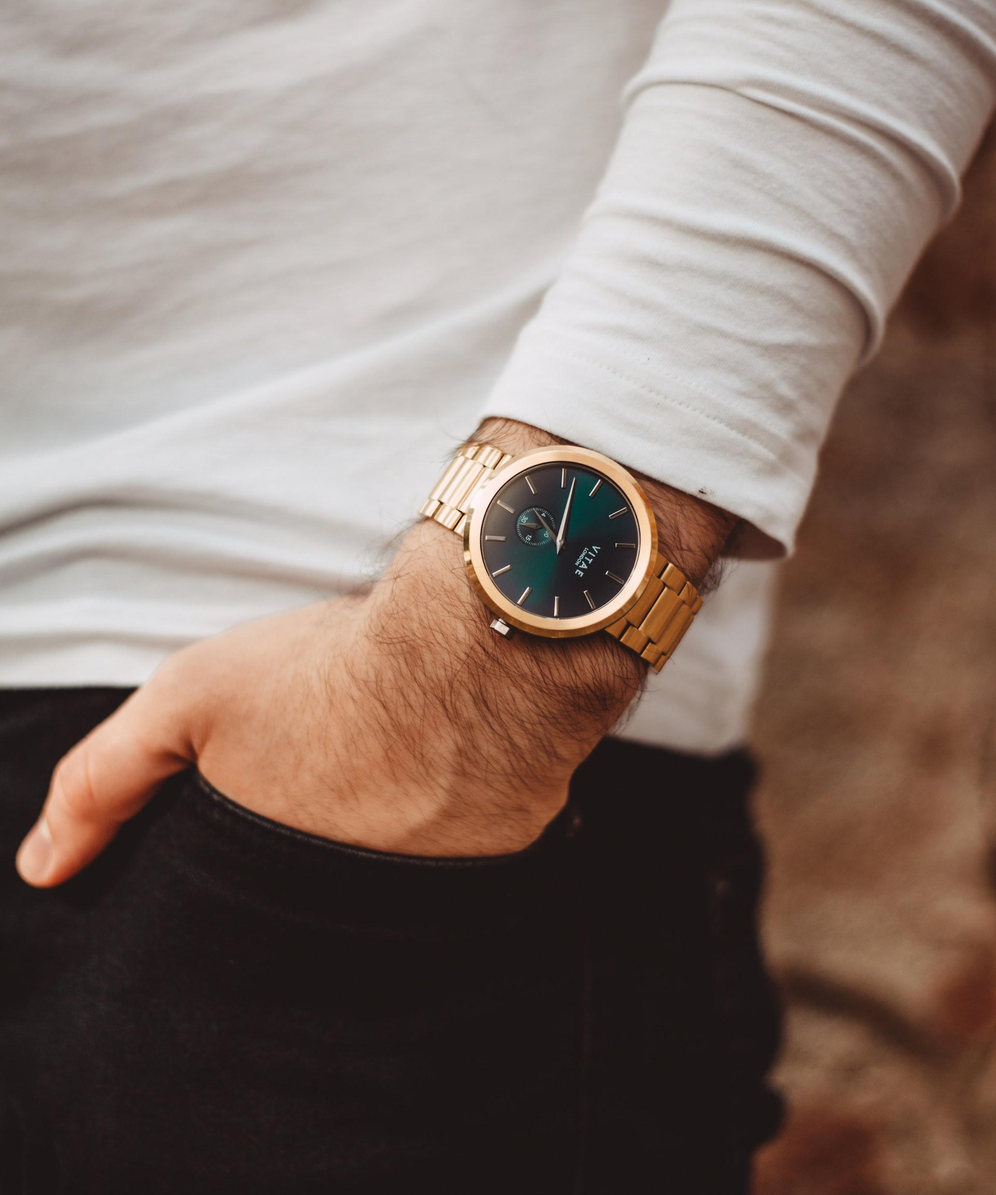watch: (426, 422, 709, 678)
